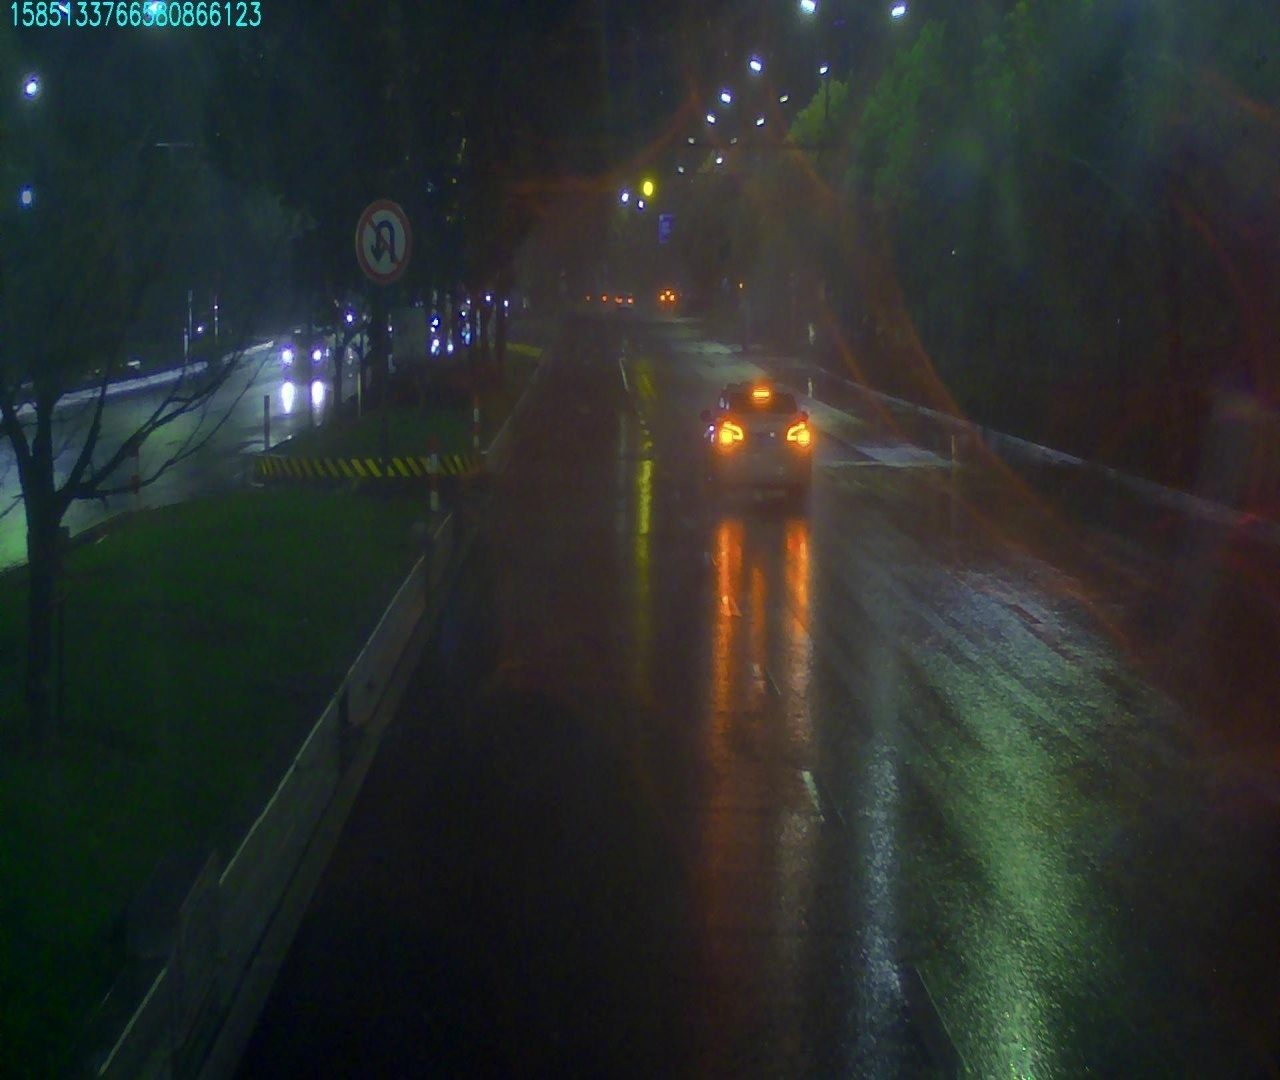yellow: (637, 172, 660, 195)
